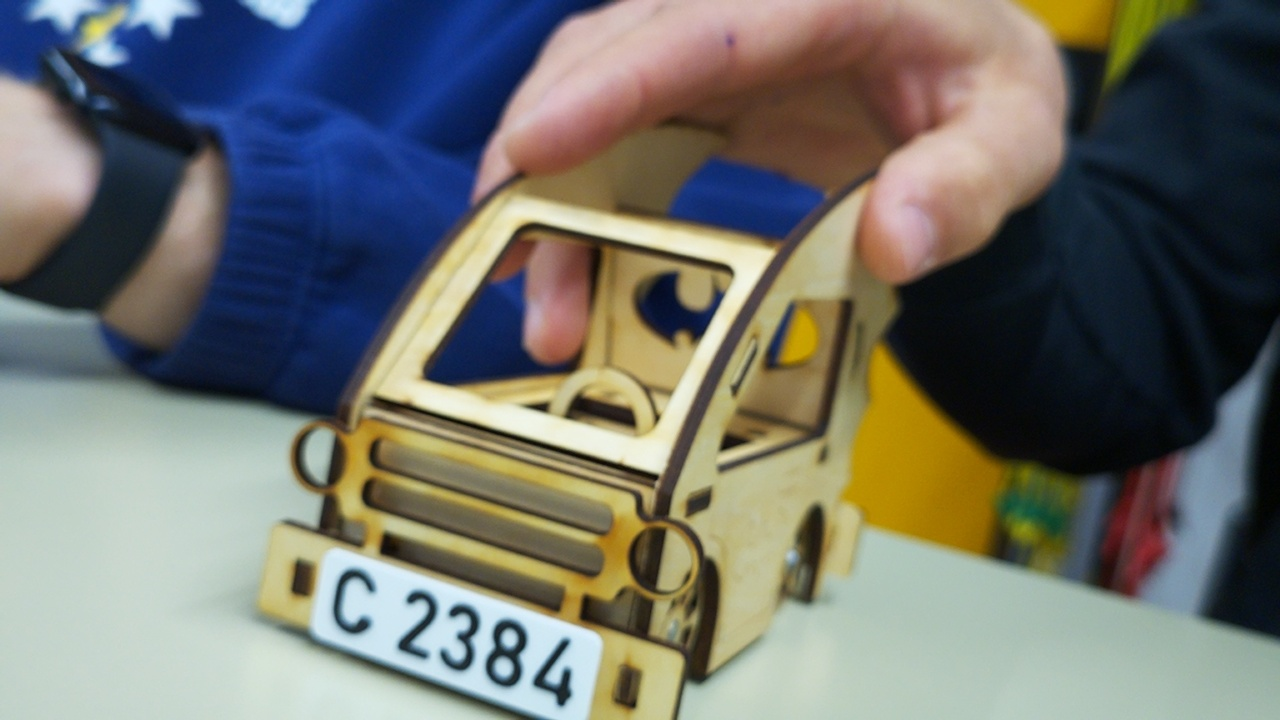license_plate: (307, 544, 605, 720)
